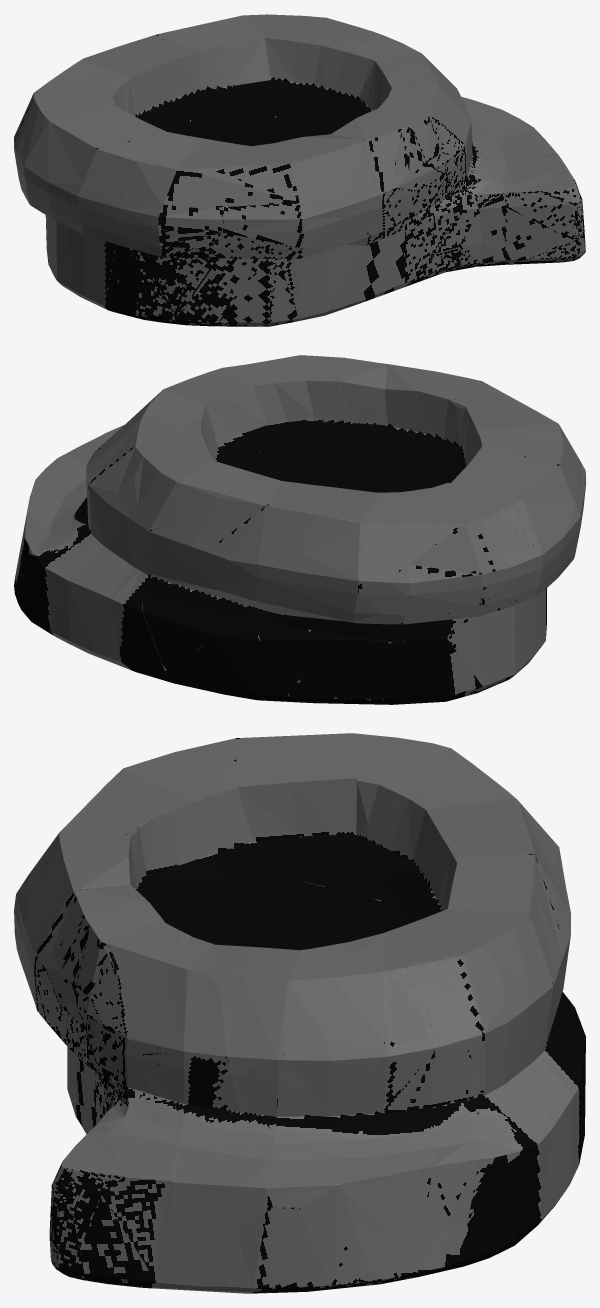
3 views of the same model, one above another, from view 1: azimuth 30°, elevation 25°; view 2: azimuth 150°, elevation 25°; view 3: azimuth 270°, elevation 25° (orthographic). The views are drawn at different scales.
Parts seen in each view (by area): view 1: OBJ02d; view 2: OBJ02d; view 3: OBJ02d.
Boxes of the visible parts, x1=… form: OBJ02d: x1=14, y1=14, x2=585, y2=326; OBJ02d: x1=14, y1=355, x2=585, y2=704; OBJ02d: x1=14, y1=733, x2=585, y2=1293.
Size of the model in its own units: 0.3038 by 0.1014 by 0.2168.
Materials: 1 (1 with a texture image).
